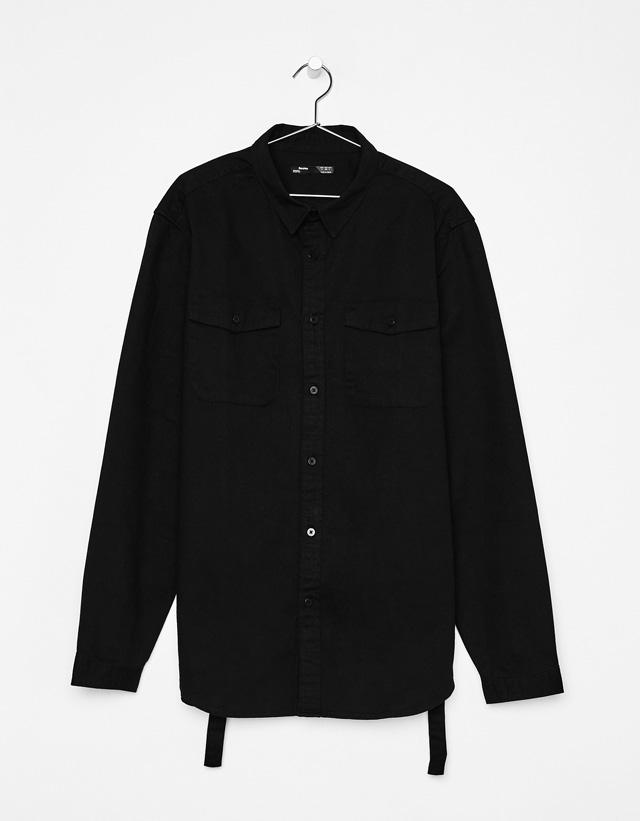teeshirt: (52, 121, 577, 721)
